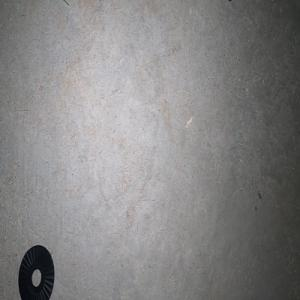Washer: (18, 244, 54, 300)
